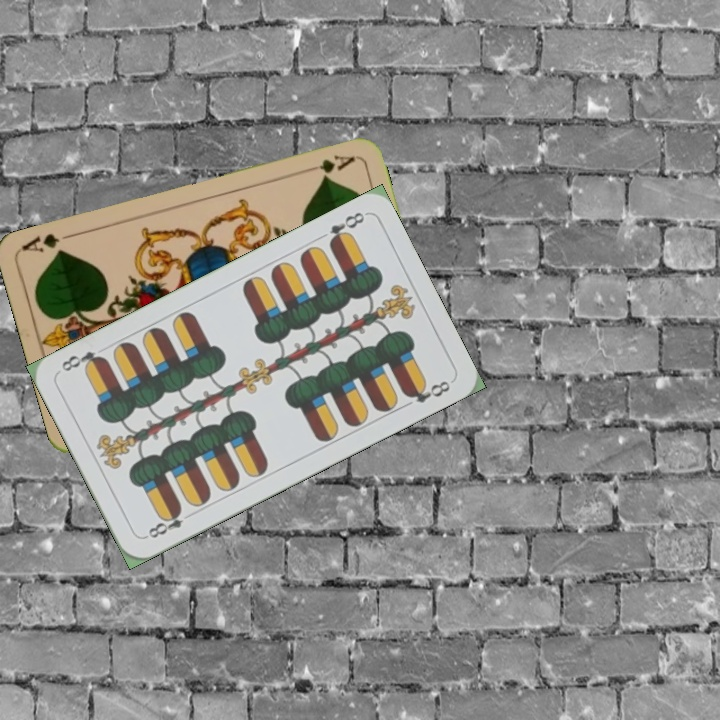E8: (324, 208, 368, 249), (141, 504, 187, 541)
GA: (299, 150, 358, 178)
